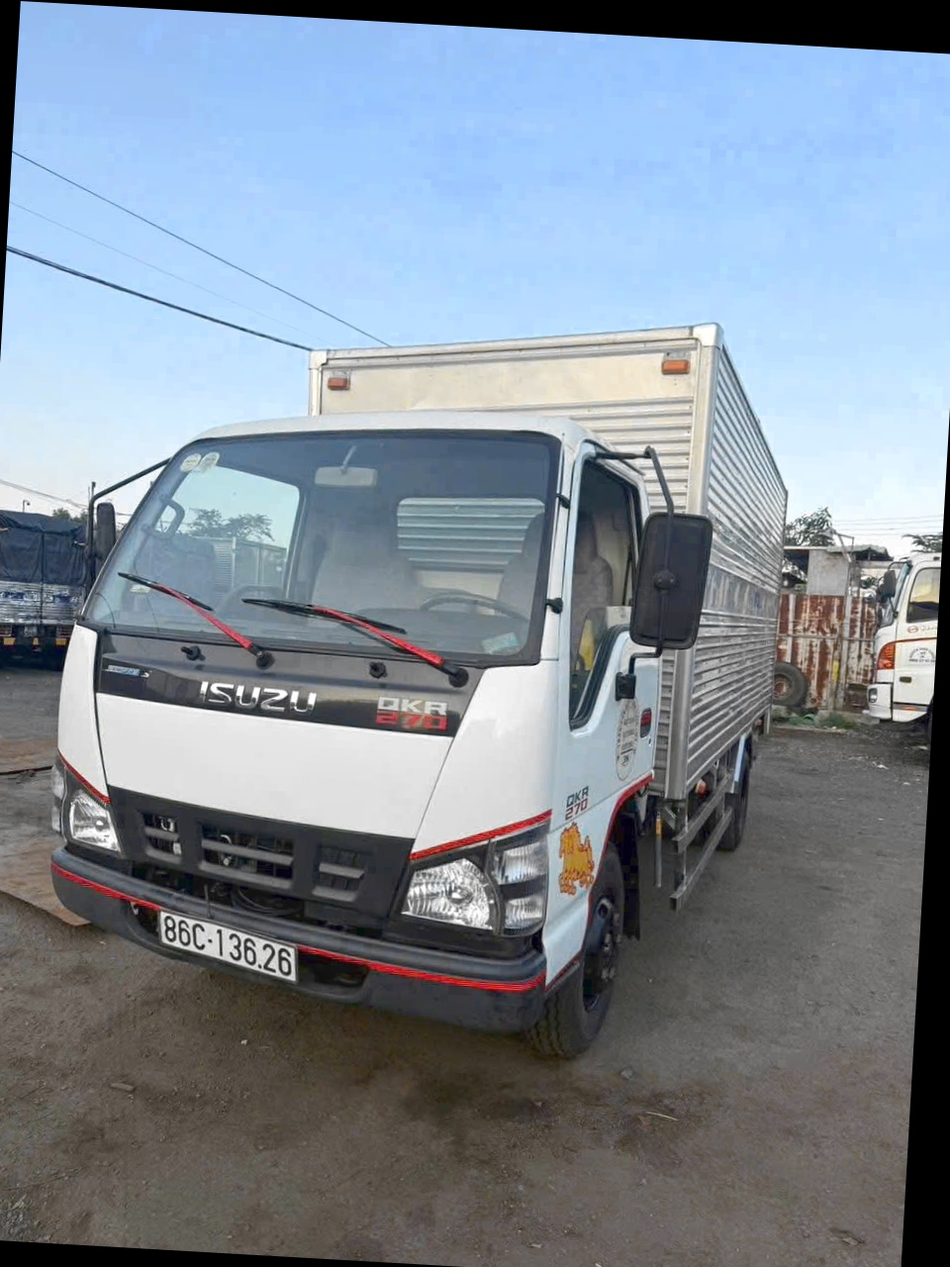Bien-so: (150, 913, 307, 983)
